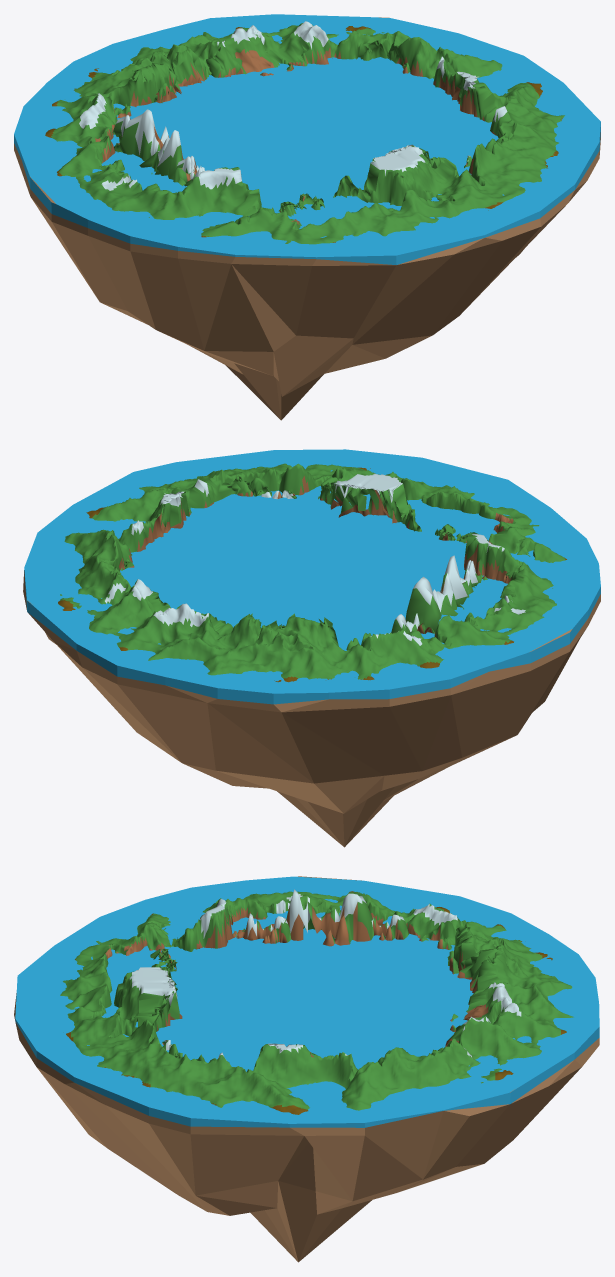
File: island.glb
3 renders of one model, top to bottom at view 1: azimuth 30°, elevation 25°; view 2: azimuth 150°, elevation 25°; view 3: azimuth 270°, elevation 25°, orthographic.
Parts seen in each view (by area): view 1: Cylinder, Landscape.009; view 2: Cylinder, Landscape.009; view 3: Cylinder, Landscape.009.
Boxes of the visible parts, bbox=[...] form: Cylinder: bbox=[14, 14, 600, 420]; Landscape.009: bbox=[45, 21, 564, 244]; Cylinder: bbox=[23, 449, 600, 847]; Landscape.009: bbox=[58, 463, 566, 682]; Cylinder: bbox=[14, 876, 599, 1262]; Landscape.009: bbox=[60, 889, 573, 1114].
Bounding box in the file's own units: 15.83 × 9.4 × 15.63.
